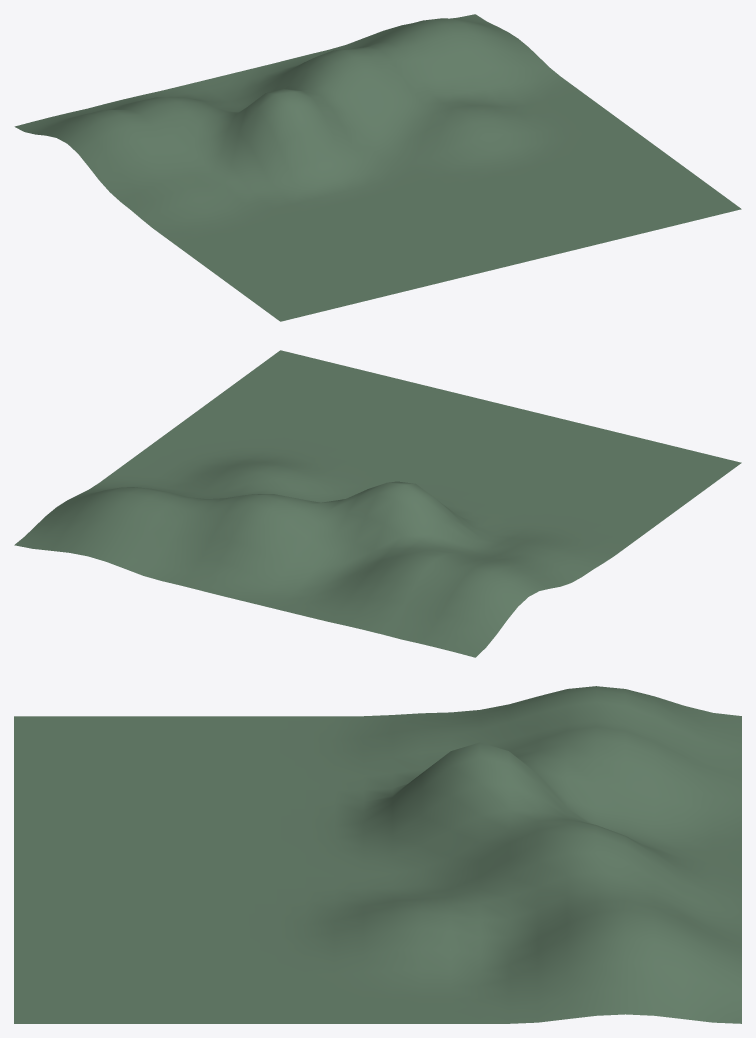
The model's file is SM_GroundPlane.fbx.
3 views of the same model, one above another, from view 1: azimuth 30°, elevation 25°; view 2: azimuth 150°, elevation 25°; view 3: azimuth 270°, elevation 25° (orthographic). The views are drawn at different scales.
Parts seen in each view (by area): view 1: SM_GroundPlane; view 2: SM_GroundPlane; view 3: SM_GroundPlane.
Boxes of the visible parts, bbox=[...] form: SM_GroundPlane: bbox=[14, 14, 741, 321]; SM_GroundPlane: bbox=[14, 350, 741, 657]; SM_GroundPlane: bbox=[14, 686, 741, 1023].
Bounding box in the file's own units: 10000 × 1283 × 10000.
